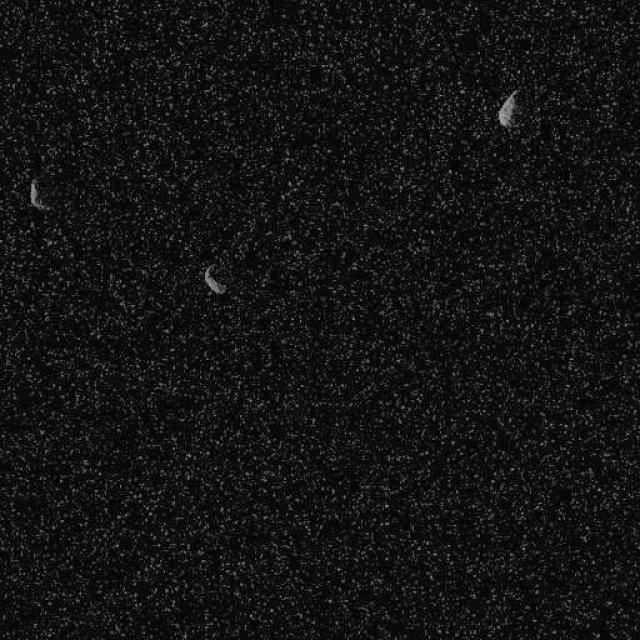D2: (496, 88, 519, 128), (202, 264, 226, 295), (28, 176, 48, 210)
